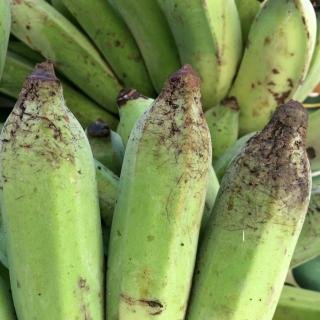Banana: (0, 0, 320, 320), (106, 64, 190, 320)
